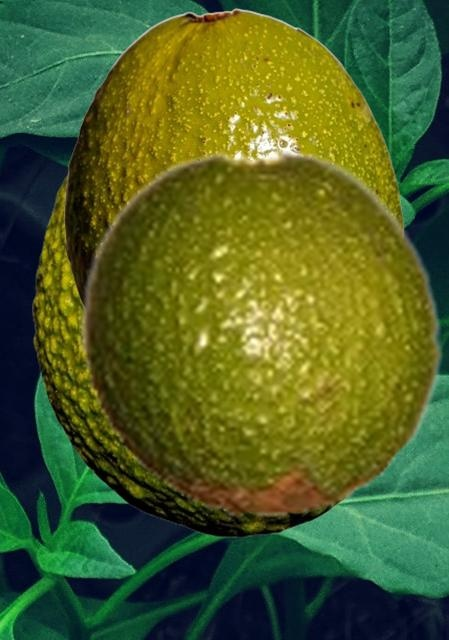avocado: (79, 149, 445, 518), (32, 160, 347, 537), (64, 8, 403, 306)
